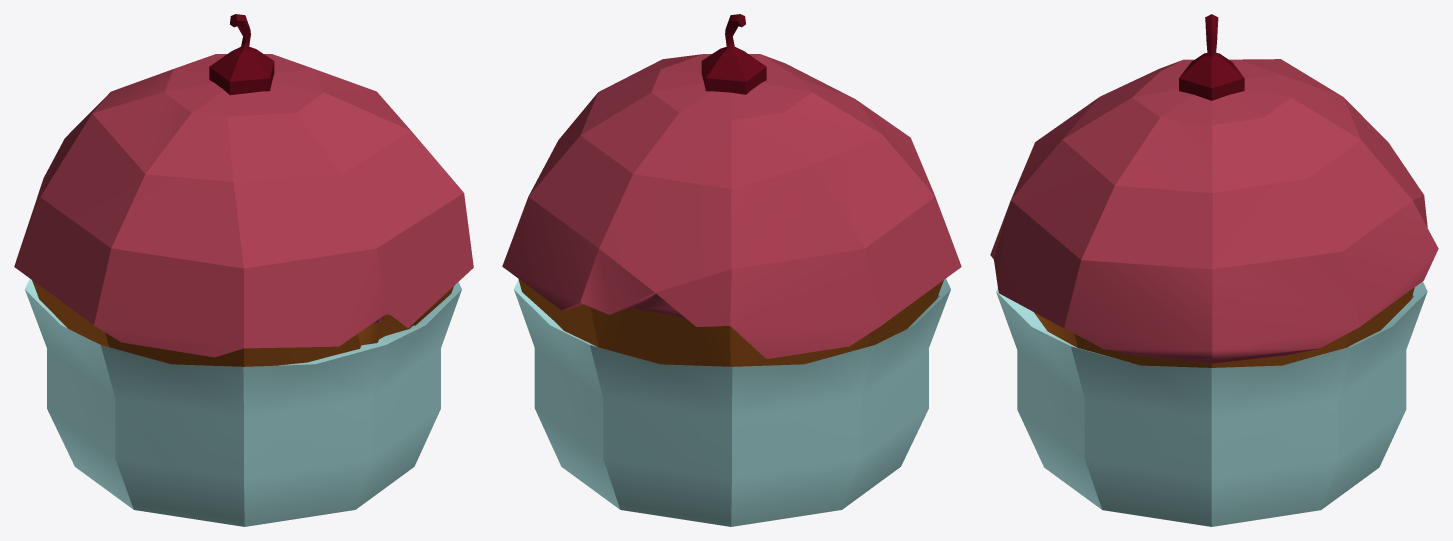
The model's file is cherry_muffin.fbx.
3 renders of one model, left to right at view 1: azimuth 30°, elevation 25°; view 2: azimuth 150°, elevation 25°; view 3: azimuth 270°, elevation 25°, orthographic.
Visible parts, largest first — view 1: Cherry_Muffin; view 2: Cherry_Muffin; view 3: Cherry_Muffin.
Part boxes in pixels (box(x1,y1,x2,y2)): Cherry_Muffin: box(14, 14, 473, 526); Cherry_Muffin: box(502, 14, 961, 526); Cherry_Muffin: box(990, 14, 1438, 526).
Bounding box in the file's own units: 2.04 × 2.19 × 2.04.
